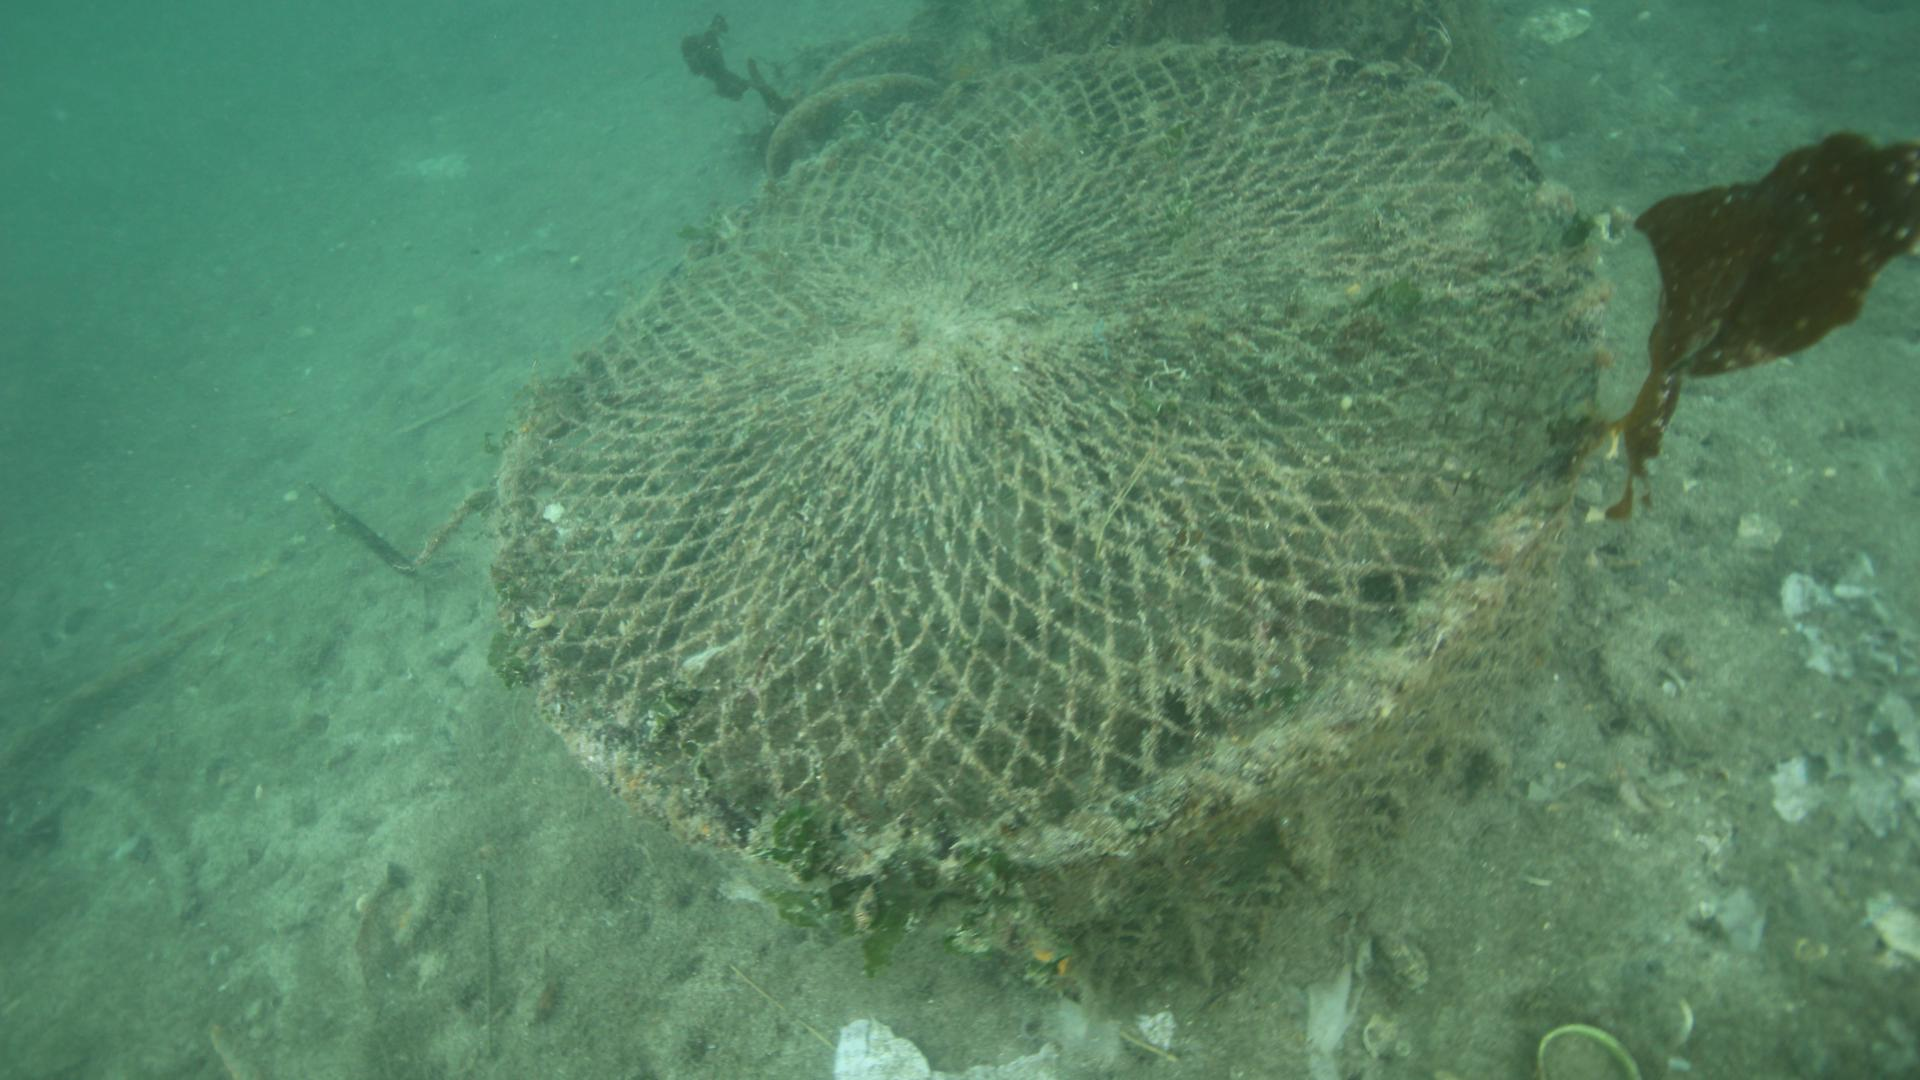circular fish trap: (491, 41, 1610, 982)
